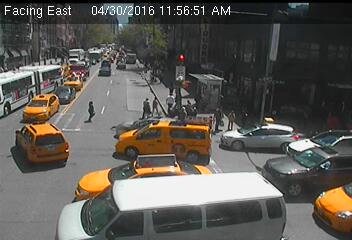neg: (27, 46, 51, 78), (37, 192, 61, 223), (149, 171, 172, 202), (168, 44, 190, 72), (37, 97, 57, 124), (29, 141, 49, 167), (294, 47, 313, 72), (102, 49, 120, 73), (207, 71, 224, 94), (285, 90, 300, 110), (108, 167, 123, 187), (266, 66, 280, 85), (205, 34, 218, 52)
pos: (83, 99, 100, 122), (211, 106, 228, 129), (135, 94, 150, 114), (164, 91, 178, 110), (227, 109, 241, 127), (327, 112, 340, 129), (151, 96, 163, 112)
